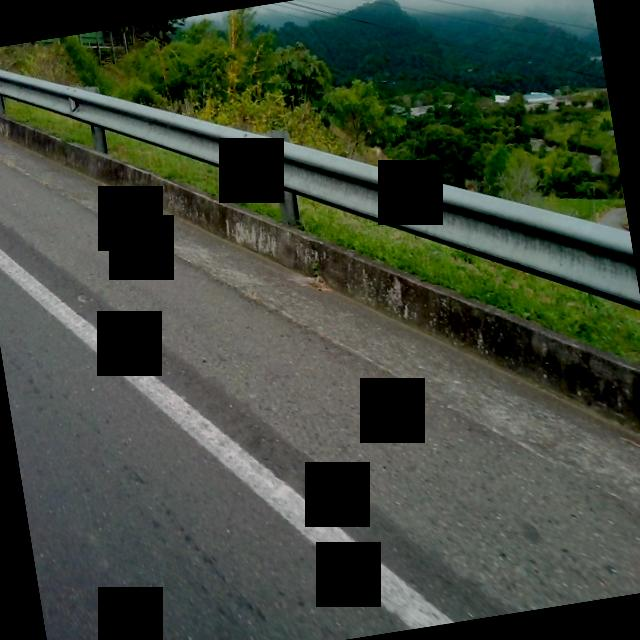DITCH: (0, 16, 640, 640), (0, 52, 640, 640)
